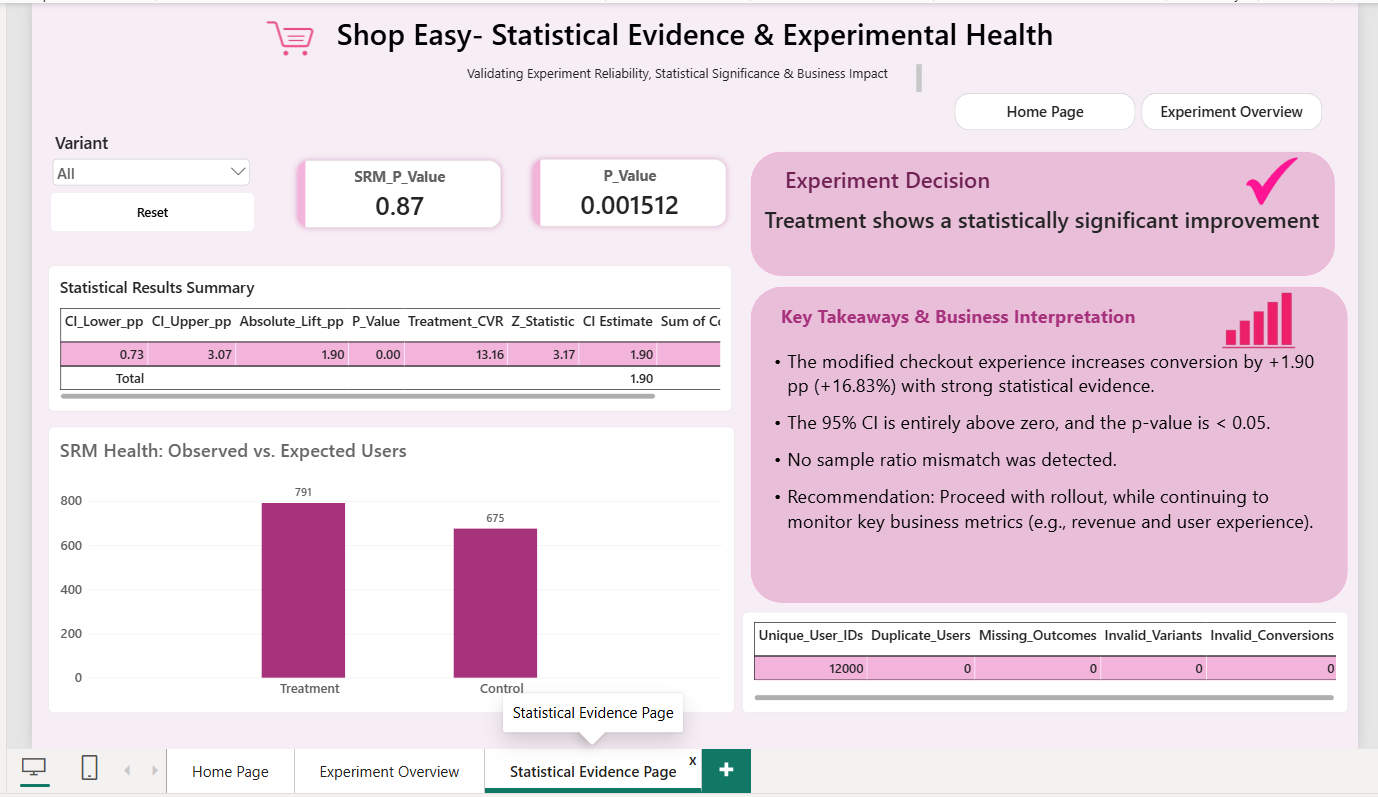

This screenshot's page, from the dashboard's own definition file:
{"tool":"powerbi","page":{"name":"Statistical Evidence Page","canvas":[1920,1080],"ordinal":2},"visuals":[{"type":"cardVisual","fields":{"Data":["Avg(AB_Test_Final_Summary.P_Value)"]},"box":[712.3,214.6,303.9,119.7],"z":0},{"type":"cardVisual","fields":{"Data":["Avg(AB_Test_Final_Summary.SRM_P_Value)"]},"box":[372.3,216.5,317.2,119.7],"z":1000},{"type":"slicer","fields":{"Values":["AB_Data.variant"]},"box":[24.7,186.2,294.4,95],"z":2000},{"type":"actionButton","box":[26.6,275.4,294.4,55.1],"z":3000},{"type":"textbox","box":[372.8,14.5,1174.5,68.8],"z":4000},{"type":"textbox","box":[630.6,88.7,658.7,41.6],"z":5000},{"type":"image","box":[316.7,14.5,113.1,73.5],"z":6000},{"type":"shape","box":[1040.9,214.6,845.6,179.7],"z":7000},{"type":"textbox","box":[1059.9,290.6,807,55],"z":8000},{"type":"tableEx","title":"Statistical Results Summary","fields":{"Values":["AB_Test_Final_Summary.CI_Lower_pp","AB_Test_Final_Summary.CI_Upper_pp","AB_Test_Final_Summary.Absolute_Lift_pp","AB_Test_Final_Summary.P_Value","AB_Test_Final_Summary.Treatment_CVR","AB_Test_Final_Summary.Z_Statistic","AB_Test_Final_Summary.CI Estimate","Sum(AB_Test_Final_Summary.Control_CVR)"]},"box":[22.8,379.9,989.6,210.8],"z":9000},{"type":"textbox","box":[1040.9,233.6,396.2,49.5],"z":10000},{"type":"tableEx","fields":{"Values":["AB_Test_Final_Summary.Unique_User_IDs","AB_Test_Final_Summary.Duplicate_Users","AB_Test_Final_Summary.Missing_Outcomes","AB_Test_Final_Summary.Invalid_Variants","AB_Test_Final_Summary.Invalid_Conversions"]},"box":[1027.6,881.4,877.6,146.3],"z":11000},{"type":"shape","box":[1040.9,410.3,864.3,457.8],"z":12000},{"type":"textbox","box":[1084.6,435,577.4,51.3],"z":13000},{"type":"textbox","box":[1052.3,499.6,826.3,300.1],"z":14000},{"type":"clusteredColumnChart","title":"SRM Health: Observed vs. Expected Users","fields":{"Category":["AB_Data.variant"],"Y":["Sum(AB_Data.converted)"]},"box":[22.8,613.5,993.4,414.1],"z":15000},{"type":"image","box":[1722.8,220.3,144.4,74.1],"z":16000},{"type":"image","box":[1646.9,398.9,258.3,123.5],"z":17000},{"type":"pageNavigator","box":[1335.5,130.3,532,54.3],"z":18000}]}

Visuals, with their boxes on the page's 1920x1080 design canvas (x1, y1, x2, y2). These are canvas units, not pixel positions in the 1378x797 screenshot, which may show the page scaled, cropped or inside an application window:
cardVisual - Avg(AB_Test_Final_Summary.P_Value): detection(712, 215, 1016, 334)
cardVisual - Avg(AB_Test_Final_Summary.SRM_P_Value): detection(372, 216, 690, 336)
slicer - AB_Data.variant: detection(25, 186, 319, 281)
actionButton: detection(27, 275, 321, 330)
textbox: detection(373, 14, 1547, 83)
textbox: detection(631, 89, 1289, 130)
image: detection(317, 14, 430, 88)
shape: detection(1041, 215, 1886, 394)
textbox: detection(1060, 291, 1867, 346)
"Statistical Results Summary" tableEx: detection(23, 380, 1012, 591)
textbox: detection(1041, 234, 1437, 283)
tableEx - AB_Test_Final_Summary.Unique_User_IDs x AB_Test_Final_Summary.Duplicate_Users: detection(1028, 881, 1905, 1028)
shape: detection(1041, 410, 1905, 868)
textbox: detection(1085, 435, 1662, 486)
textbox: detection(1052, 500, 1879, 800)
"SRM Health: Observed vs. Expected Users" clusteredColumnChart: detection(23, 614, 1016, 1028)
image: detection(1723, 220, 1867, 294)
image: detection(1647, 399, 1905, 522)
pageNavigator: detection(1336, 130, 1868, 185)
